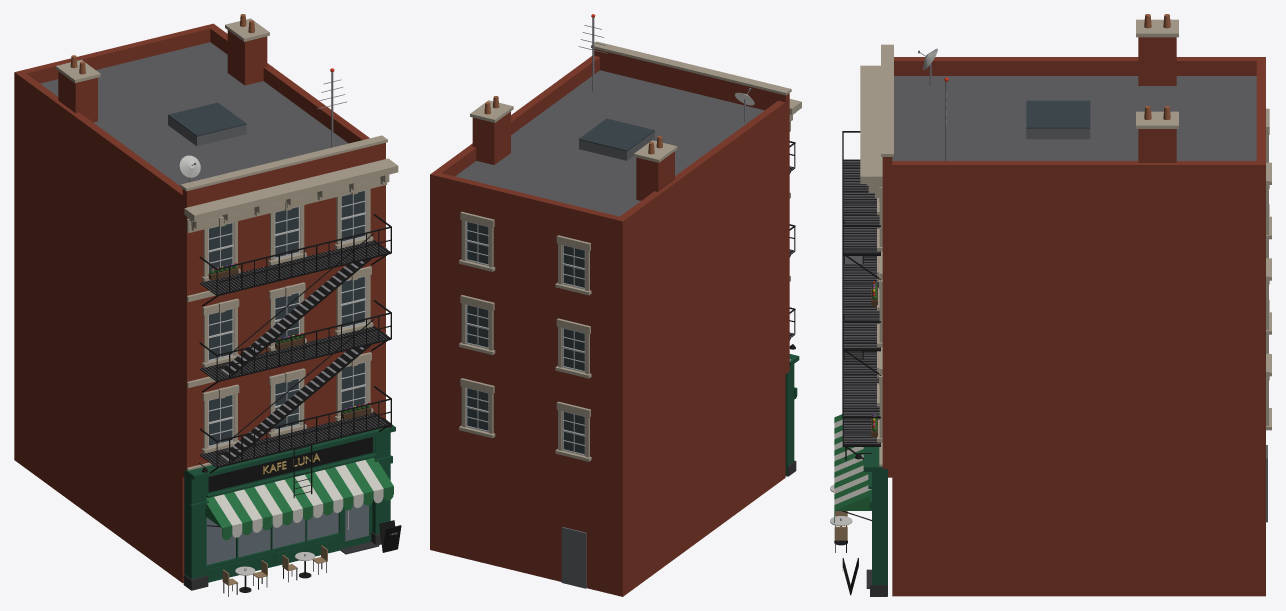
The model's file is dukkan_kafe.glb.
3 views of the same model, side by side, from view 1: azimuth 30°, elevation 25°; view 2: azimuth 150°, elevation 25°; view 3: azimuth 270°, elevation 25° (orthographic). The views are drawn at different scales.
Visible parts, largest first — view 1: Dukkan_Kafe; view 2: Dukkan_Kafe; view 3: Dukkan_Kafe.
Boxes of the visible parts, x1=… form: Dukkan_Kafe: x1=14, y1=14, x2=401, y2=596; Dukkan_Kafe: x1=430, y1=14, x2=801, y2=596; Dukkan_Kafe: x1=830, y1=14, x2=1271, y2=596.
Size of the model in its own units: 8.2 by 17.48 by 13.83.
